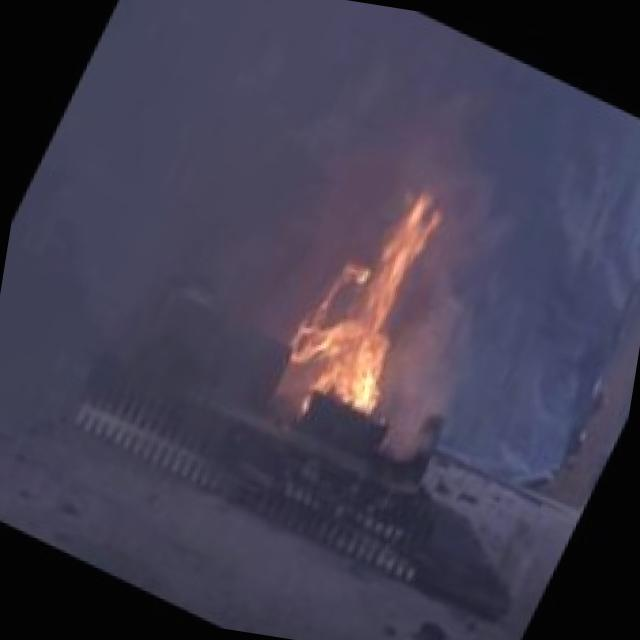fire: (264, 143, 486, 456)
